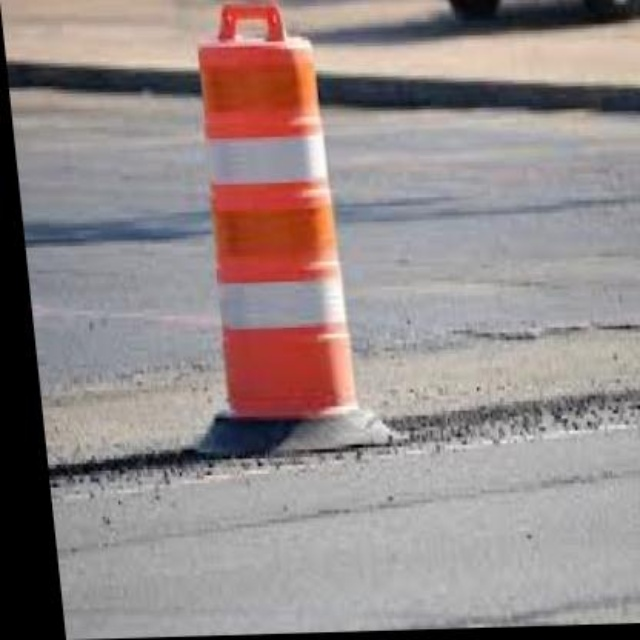obstacle: (179, 12, 349, 434)
